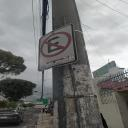NoEstacionar: (32, 21, 78, 72)
